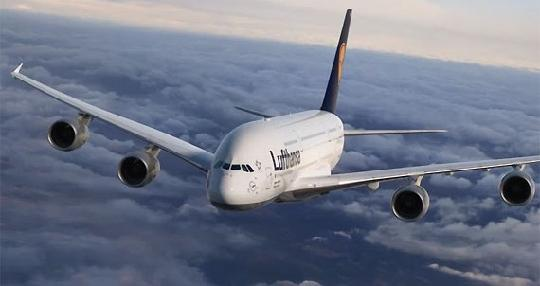airplane: (11, 5, 540, 214)
